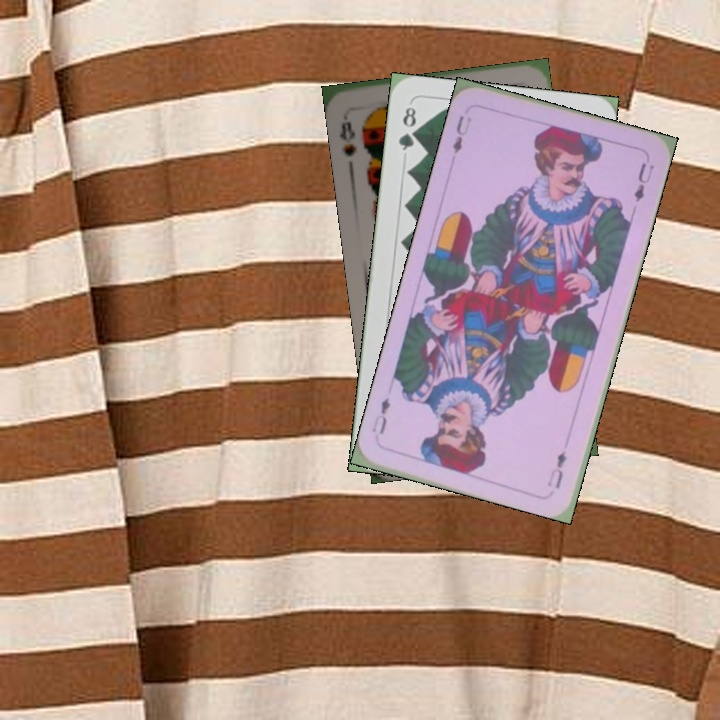EU: (448, 111, 474, 157), (544, 447, 569, 491)
G8: (394, 102, 420, 153)
S8: (335, 117, 359, 159)
